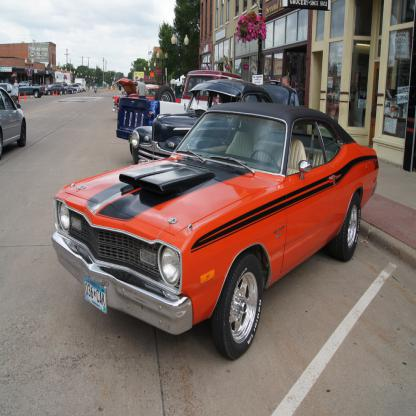Car: (52, 97, 380, 359), (112, 70, 297, 165), (0, 86, 26, 160), (43, 82, 83, 96), (0, 81, 19, 107), (18, 81, 44, 98)
